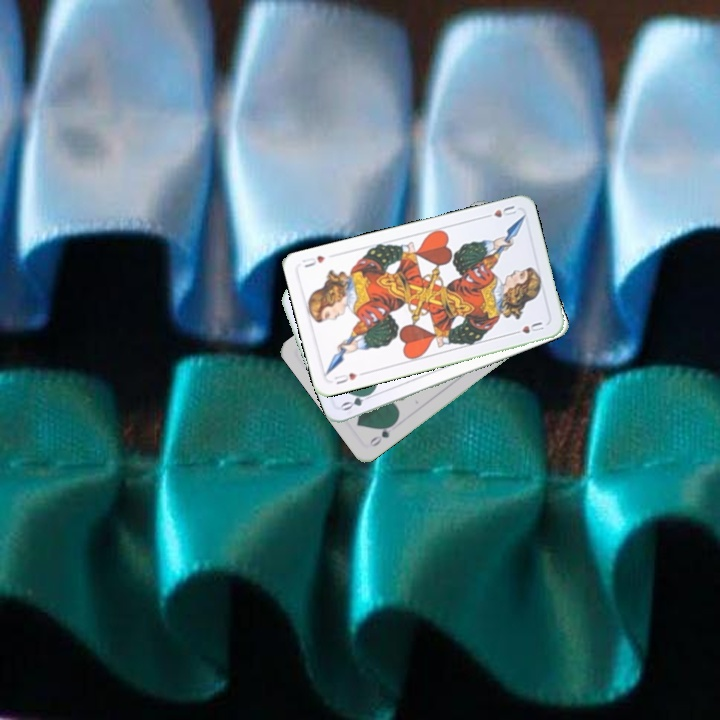GO: (337, 387, 377, 413), (366, 418, 398, 449)
HU: (479, 201, 520, 221), (330, 369, 360, 387)
